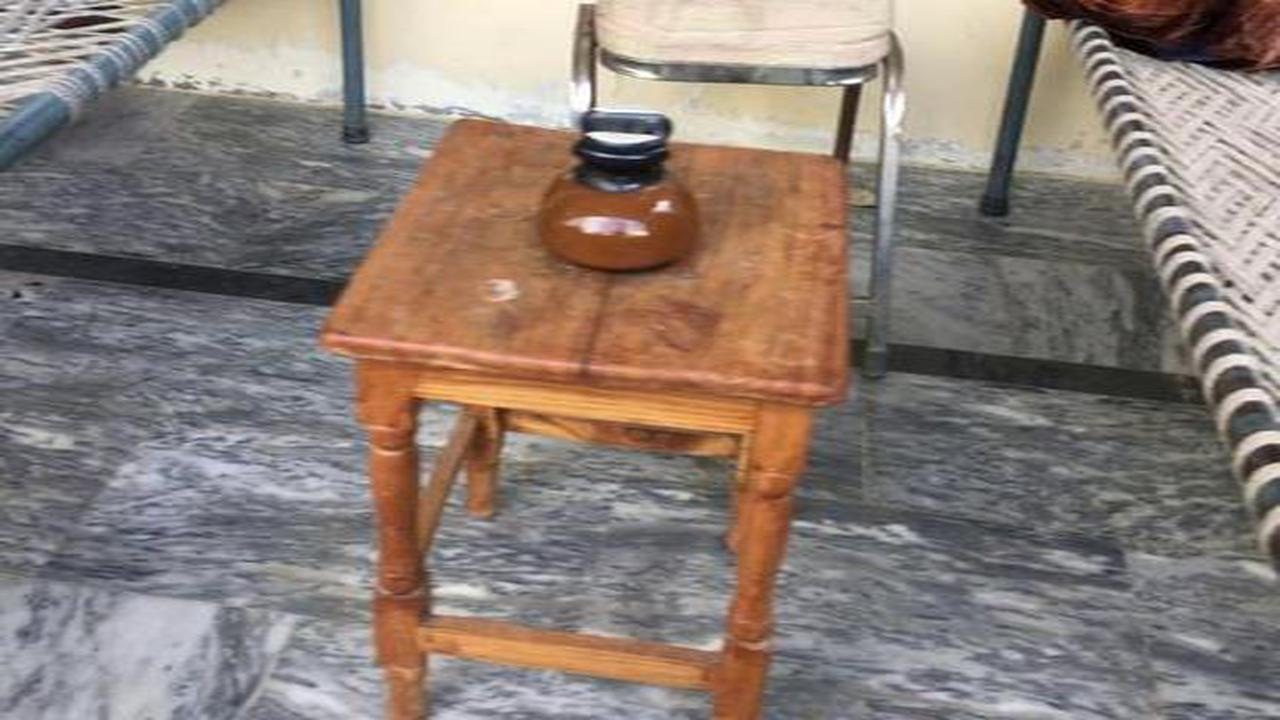insulator_pin: (517, 94, 724, 288)
